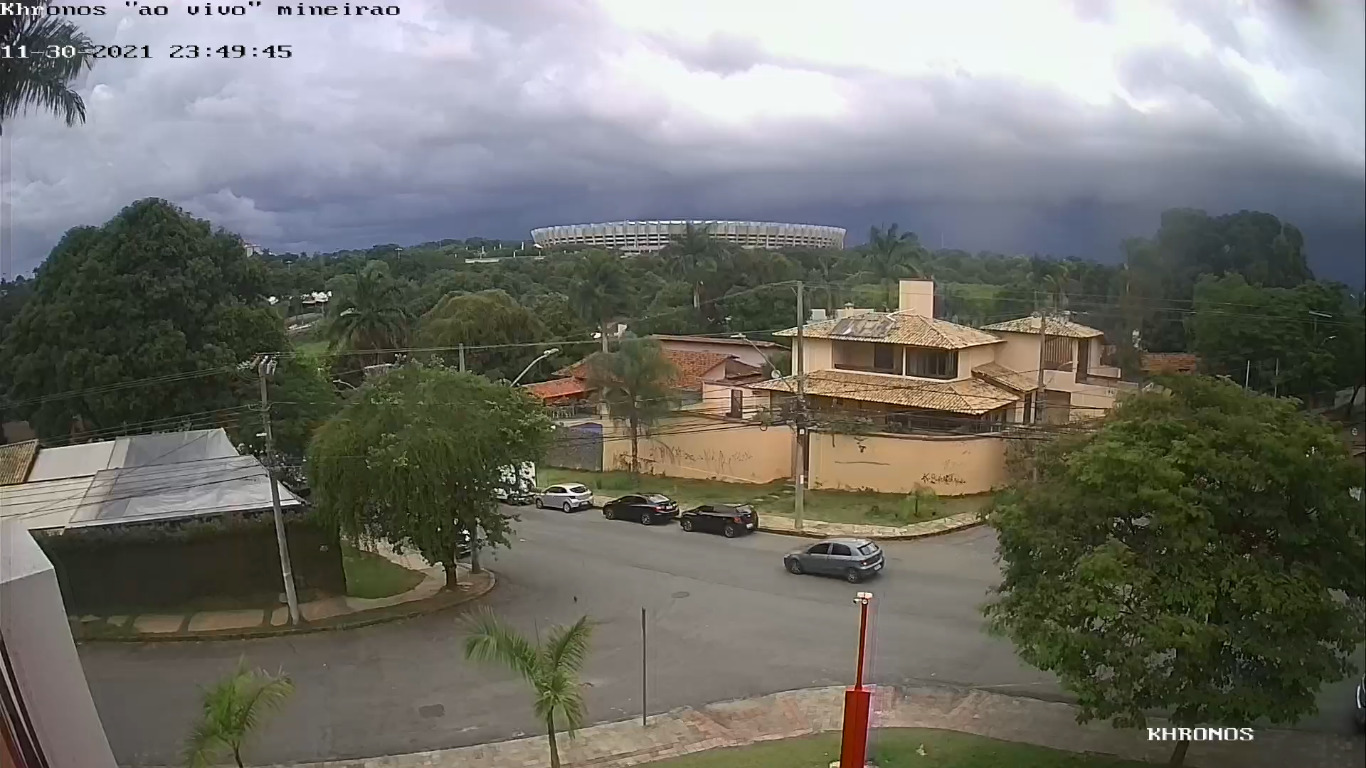car: (783, 533, 887, 583), (680, 498, 759, 538), (602, 490, 682, 526), (534, 479, 595, 513)
